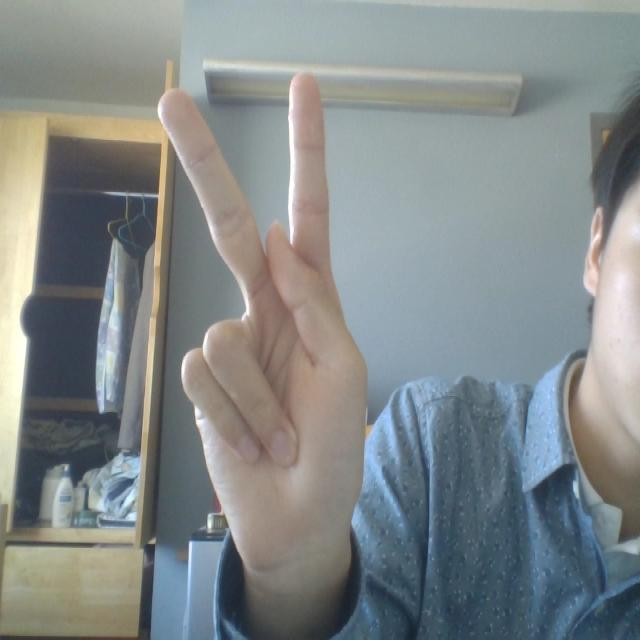K: (138, 31, 429, 640)
